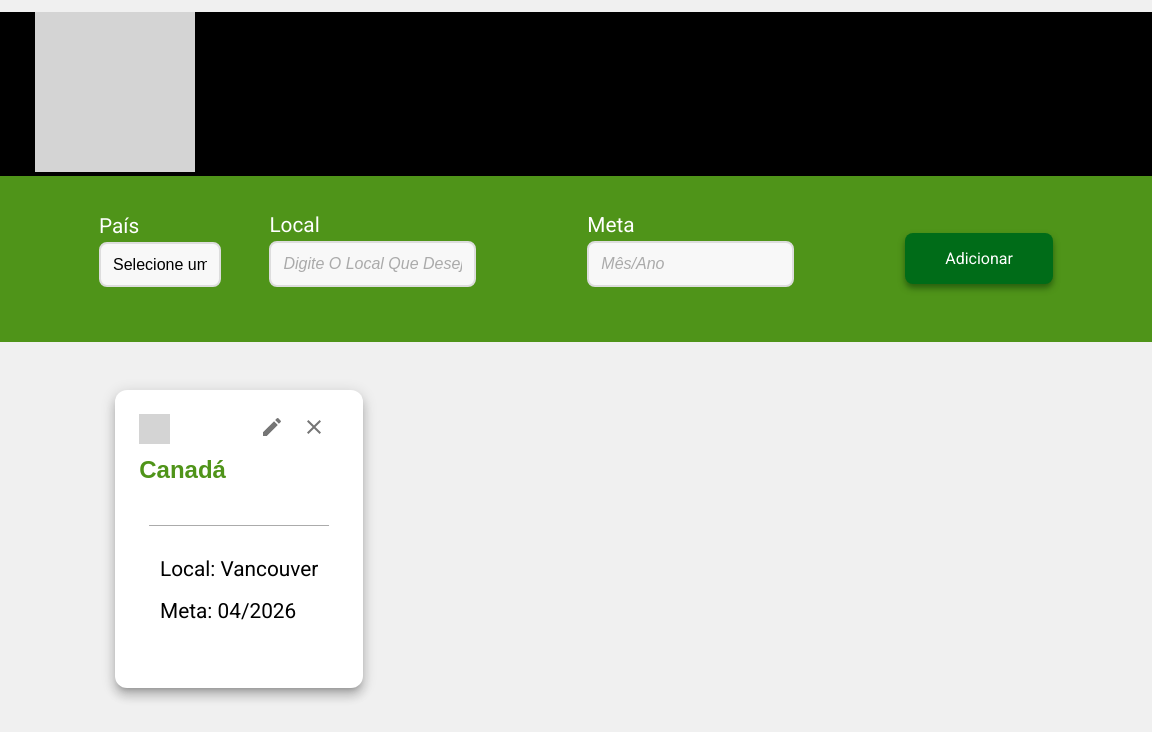
template spec › País Vazio
The width and height of the screenshot is (1152, 732).
Click the button with test id "botao-form" at (979, 259), box [905, 233, 1053, 284]
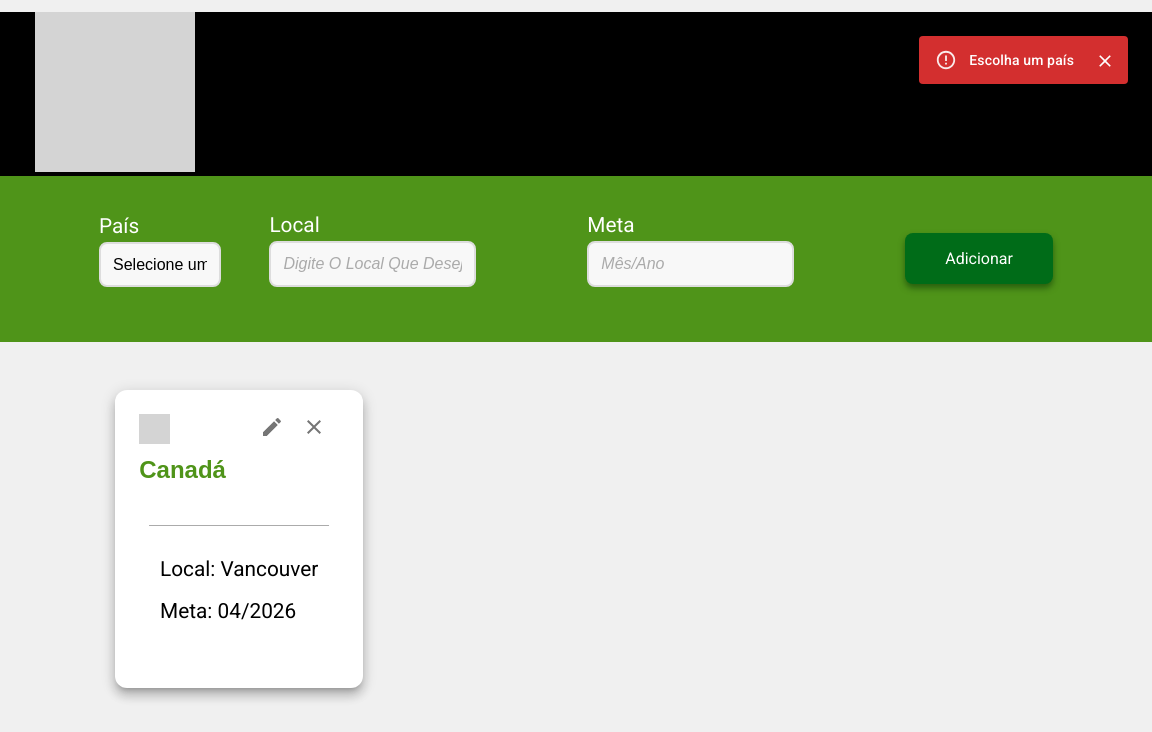
Result: the text "Escolha um país" is shown at [969, 52, 1074, 68]
